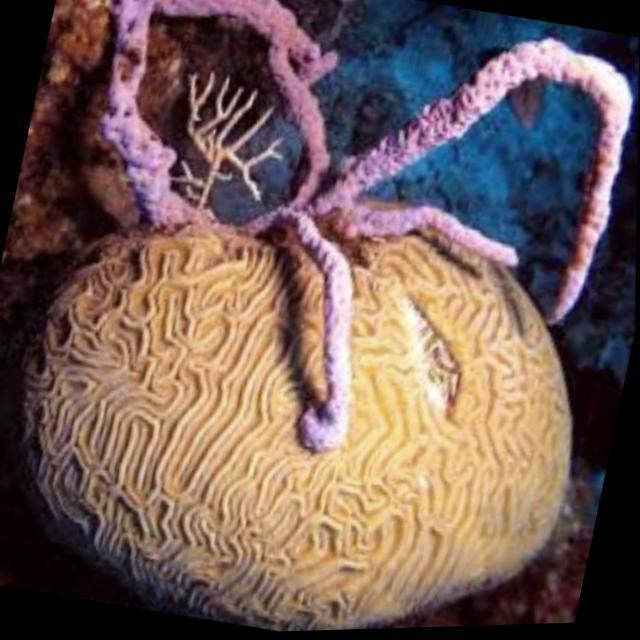Healthy Coral: (0, 91, 639, 640)
